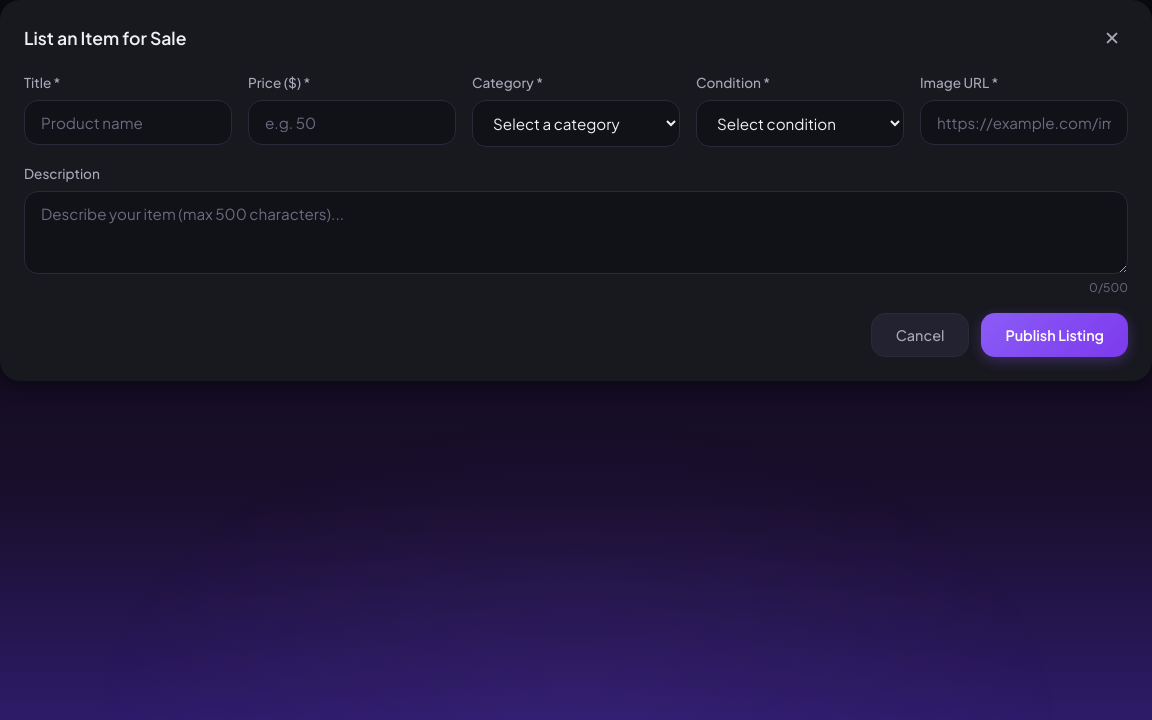
CreateListingForm › shows "Price must be greater than zero" when price is negative
The width and height of the screenshot is (1152, 720).
In the field labelled "Title *": (128, 122) [24,100,232,145], type "Test Item"
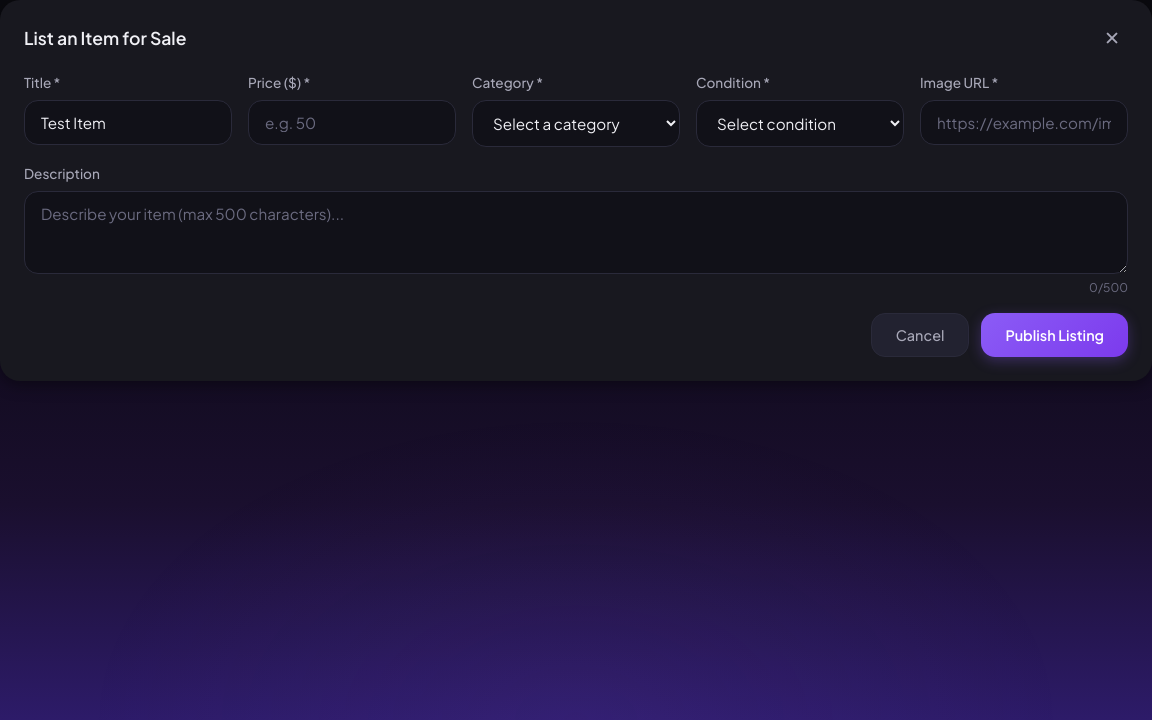
In the number field labelled "Price ($) *": (352, 122) [248,100,456,145], type "-5"
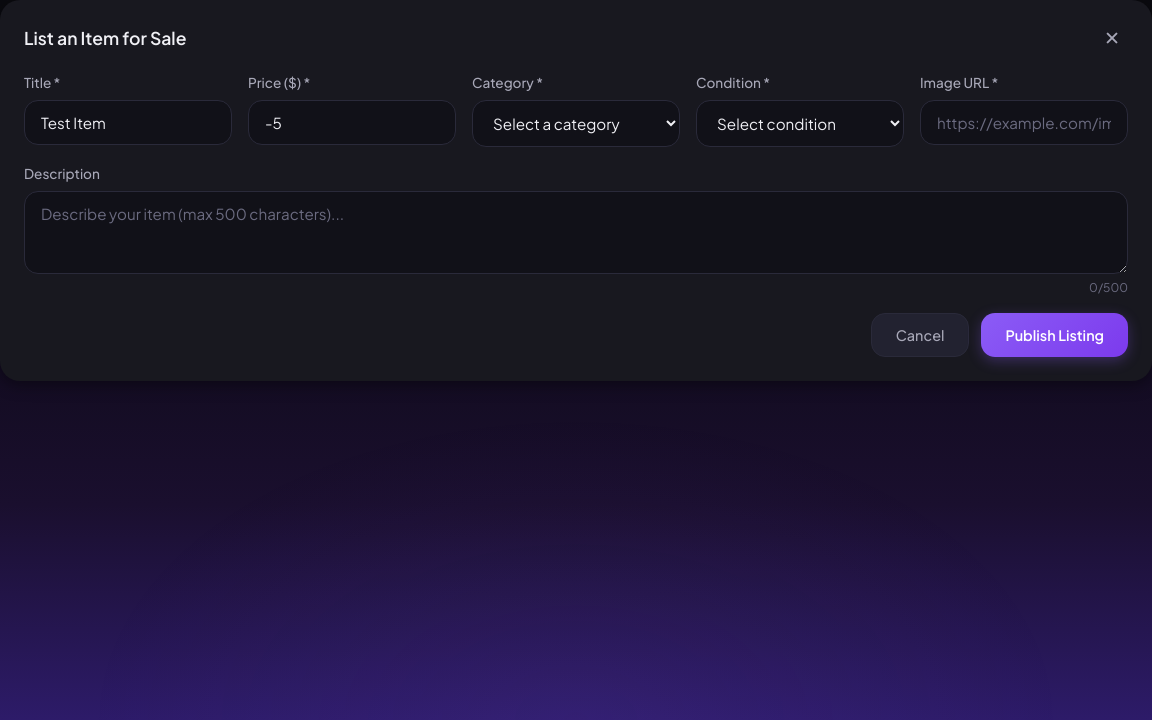
Select "Running" in the dropdown labelled "Category *": (576, 123) [472,100,680,147]
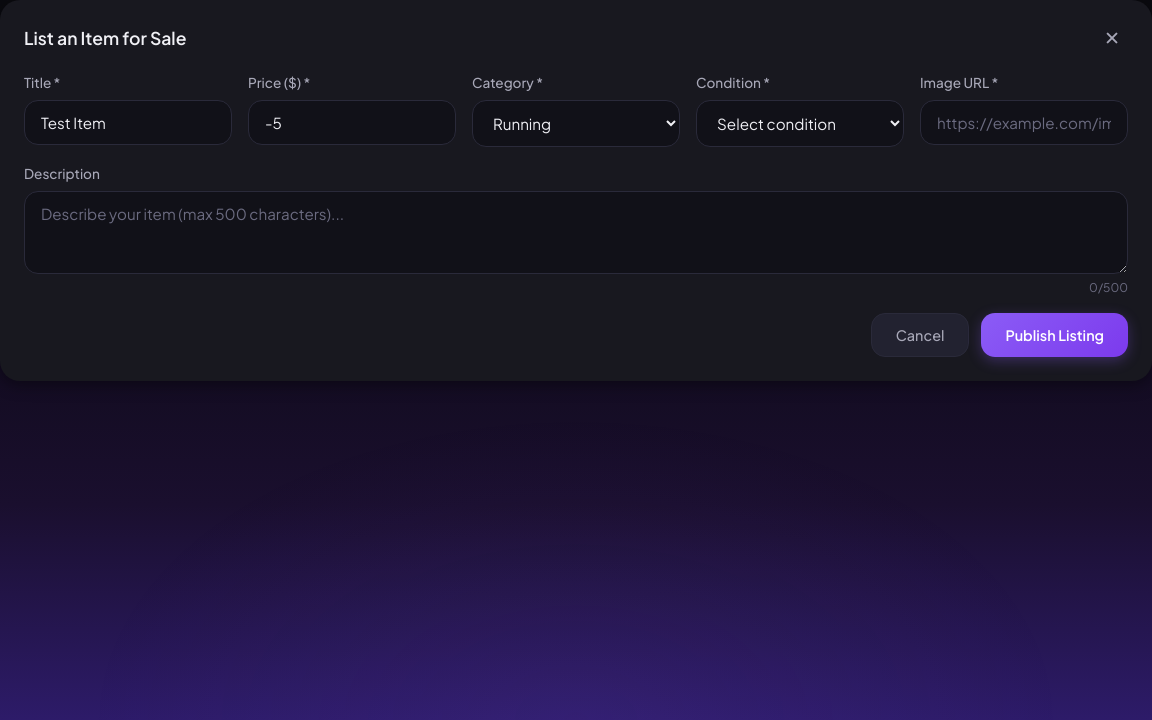
Select "Good" in the dropdown labelled "Condition *": (800, 123) [696,100,904,147]
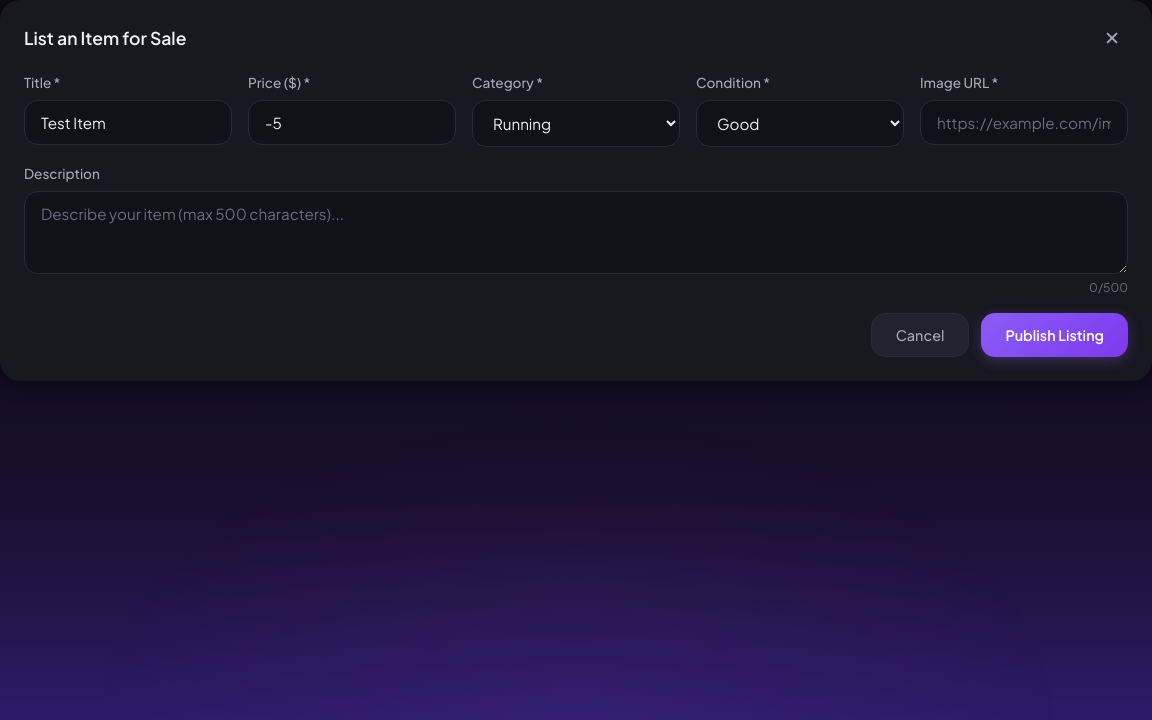
In the field labelled "Image URL *": (1024, 122) [920,100,1128,145], type "https://img.com/a.jpg"
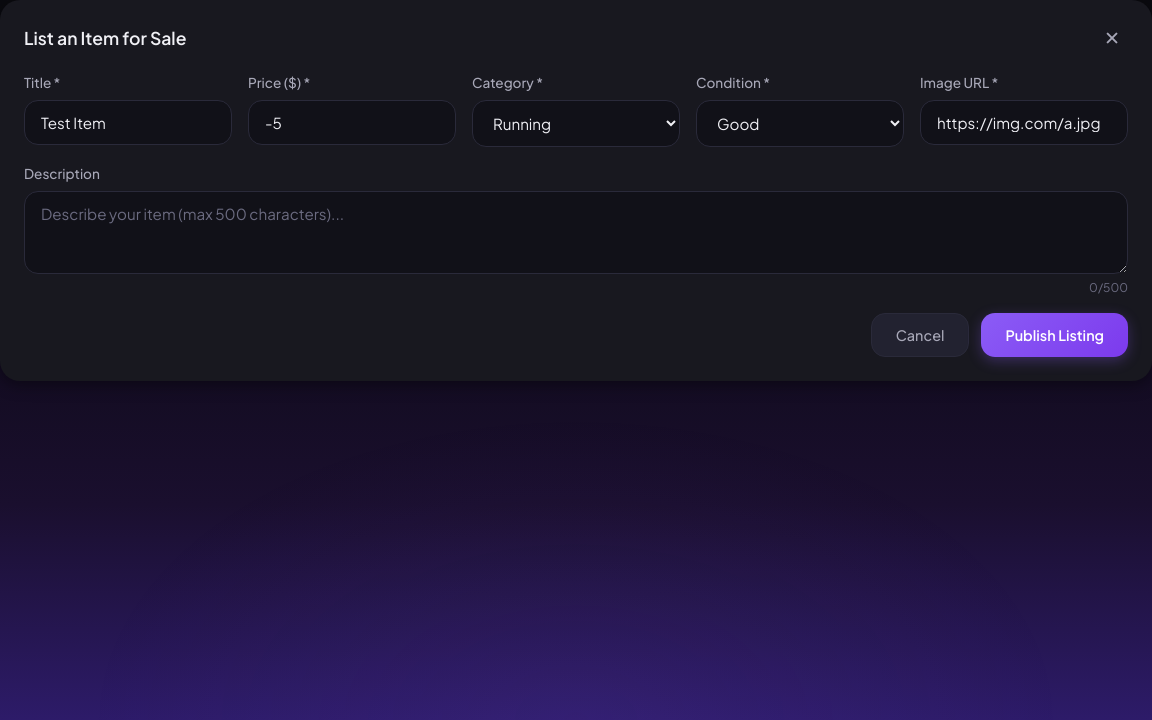
Click the button "Publish Listing": (1055, 335) [981,313,1128,357]
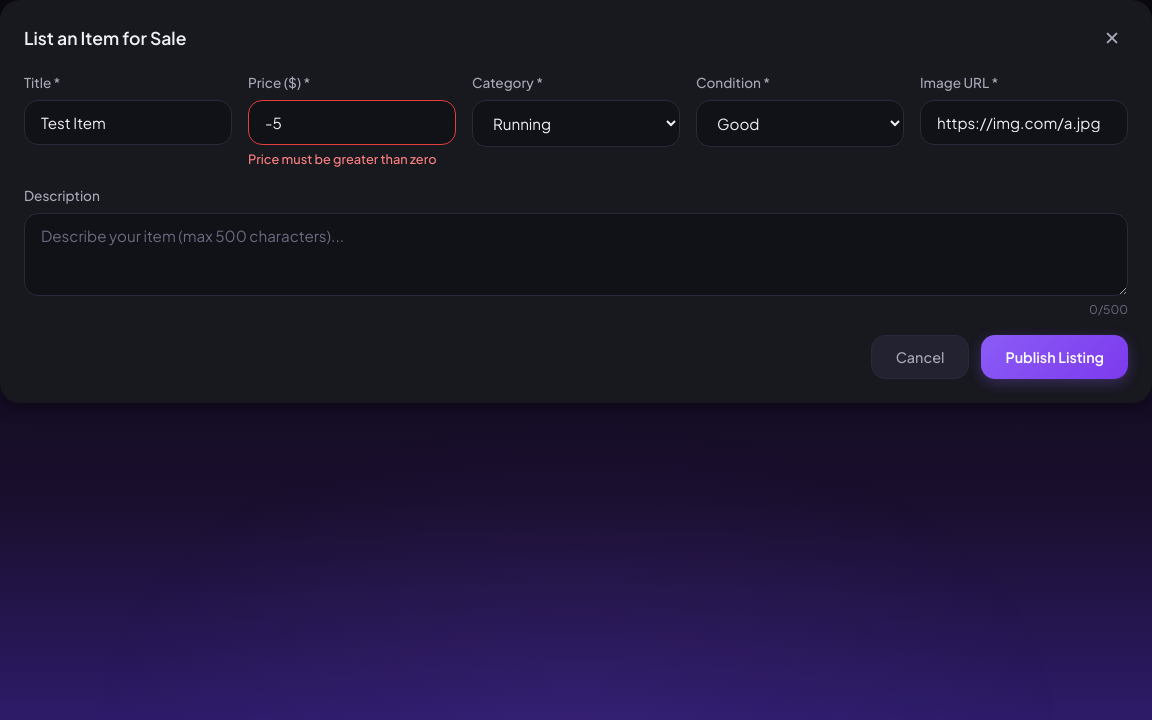
Check: the text "Price must be greater than zero" is shown, box [248,149,456,169]
